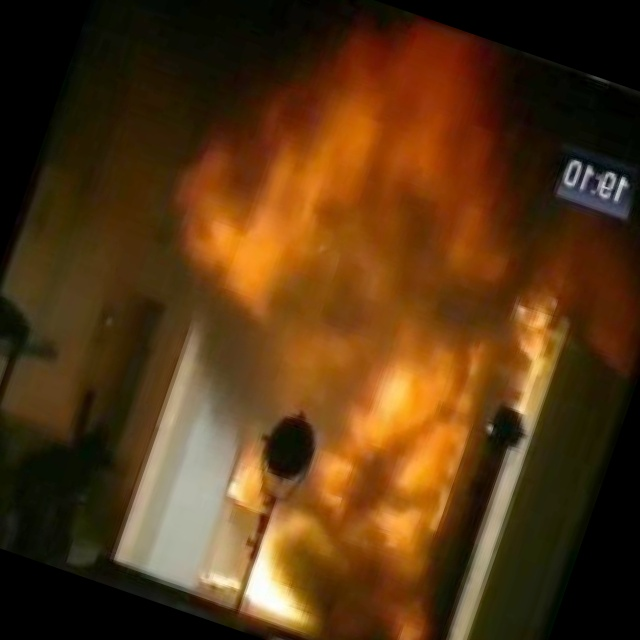fire: (159, 0, 606, 537)
